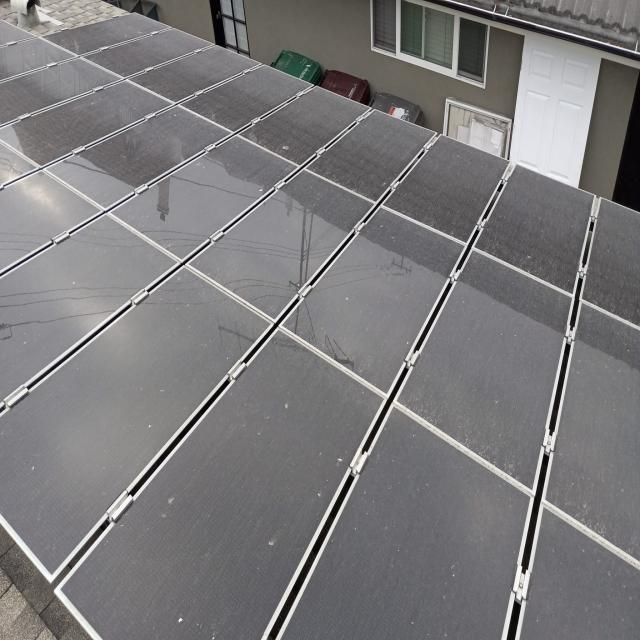dust-solar-panel: (0, 11, 640, 640)
